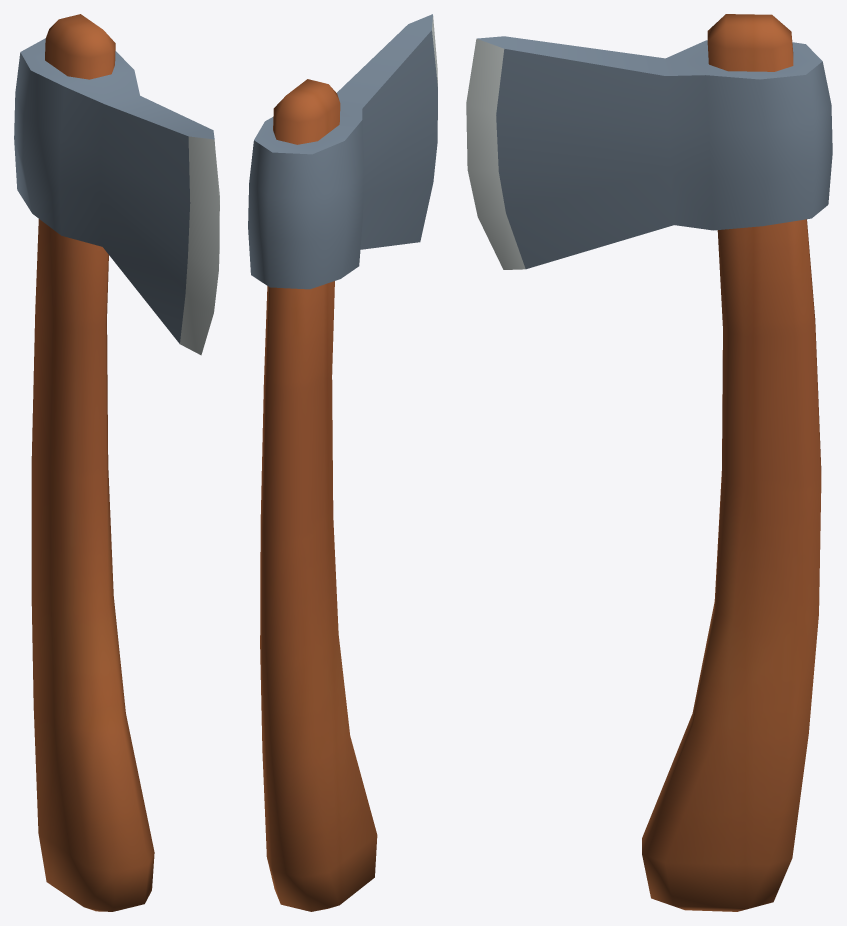
File: Axe.fbx
The picture shows the model from 3 angles, left to right: view 1: azimuth 30°, elevation 25°; view 2: azimuth 150°, elevation 25°; view 3: azimuth 270°, elevation 25°; orthographic projection. The views are drawn at different scales.
Visible parts, largest first — view 1: Axe; view 2: Axe; view 3: Axe.
Boxes of the visible parts, bbox=[...] form: Axe: bbox=[14, 14, 219, 911]; Axe: bbox=[248, 14, 437, 911]; Axe: bbox=[466, 14, 832, 911].
Size of the model in its own units: 9.14 by 80.86 by 30.37.
